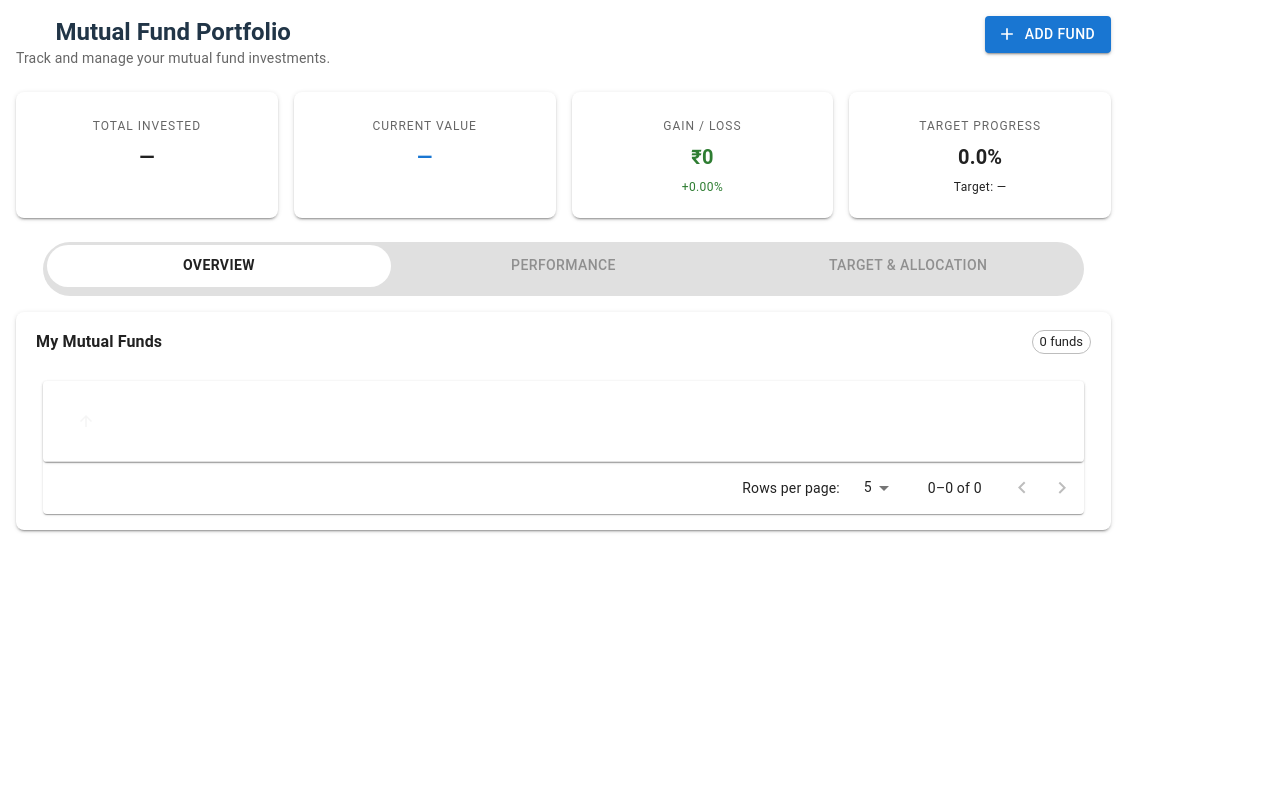
Test case: AssetManagement Component › switches to Target & Allocation tab
Click the tab "Target & Allocation" at (908, 266), box [736,245,1080,286]
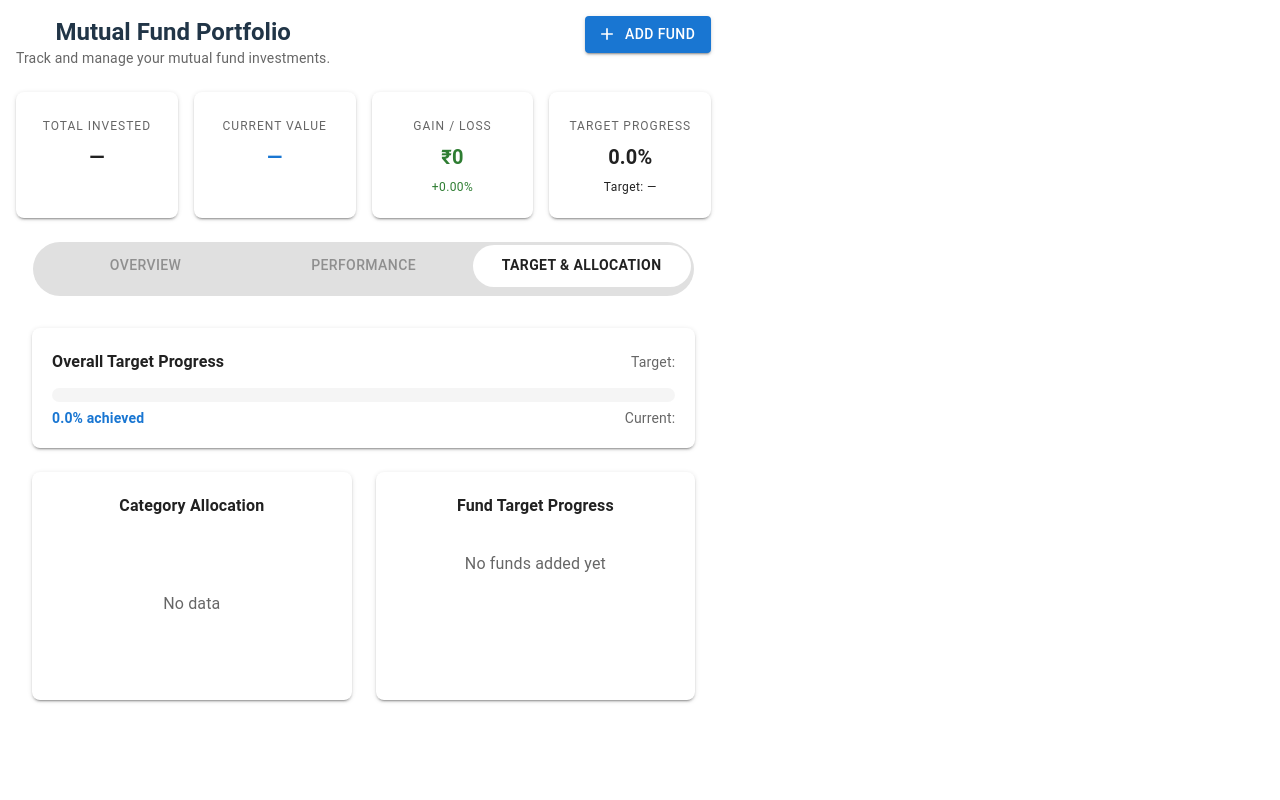
Expected: the heading "Overall Target Progress" is shown, [52,348,224,376]
